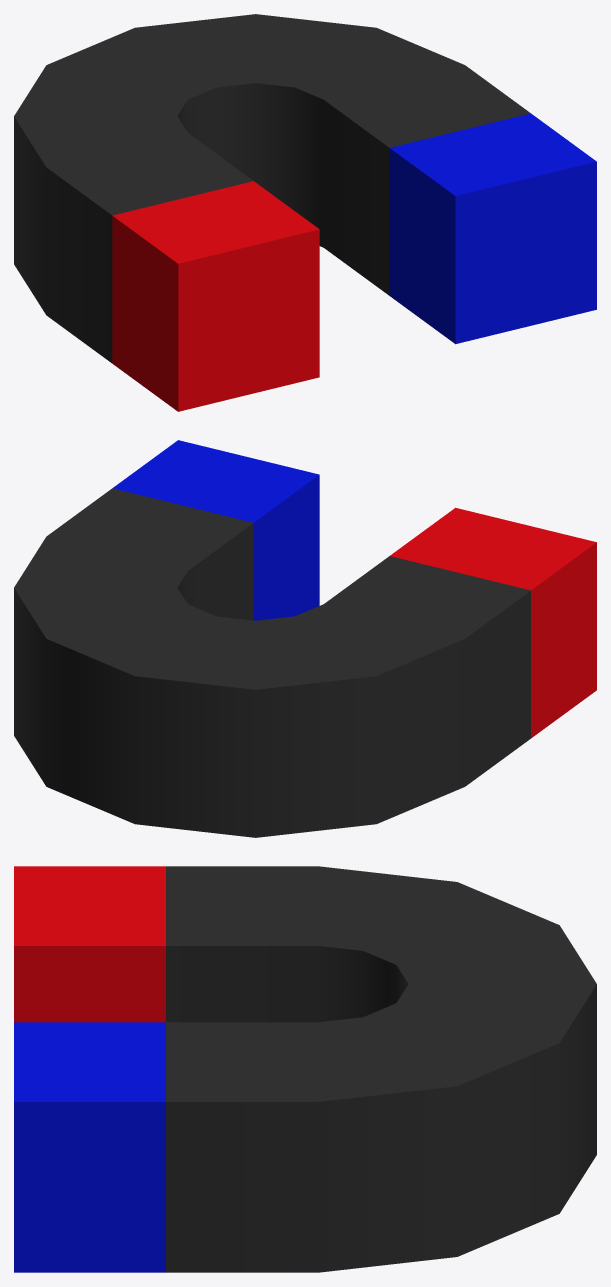
File: SM_Magnet.fbx
3 views of the same model, one above another, from view 1: azimuth 30°, elevation 25°; view 2: azimuth 150°, elevation 25°; view 3: azimuth 270°, elevation 25° (orthographic). The views are drawn at different scales.
Visible parts, largest first — view 1: Plane; view 2: Plane; view 3: Plane.
Boxes of the visible parts, box(x1,y1,x2,y2) form: Plane: box(14, 14, 596, 411); Plane: box(14, 440, 596, 837); Plane: box(14, 866, 596, 1272).
Bounding box in the file's own units: 25.09 × 26.22 × 8.48.
